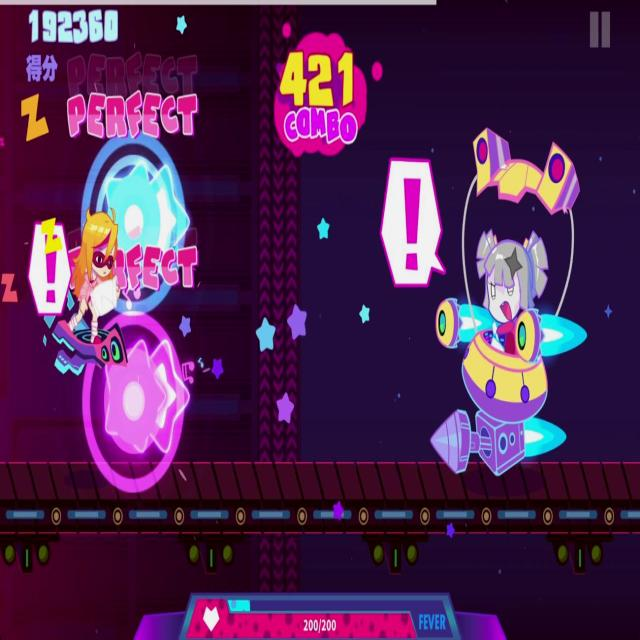qiangboss: (415, 113, 581, 473)
